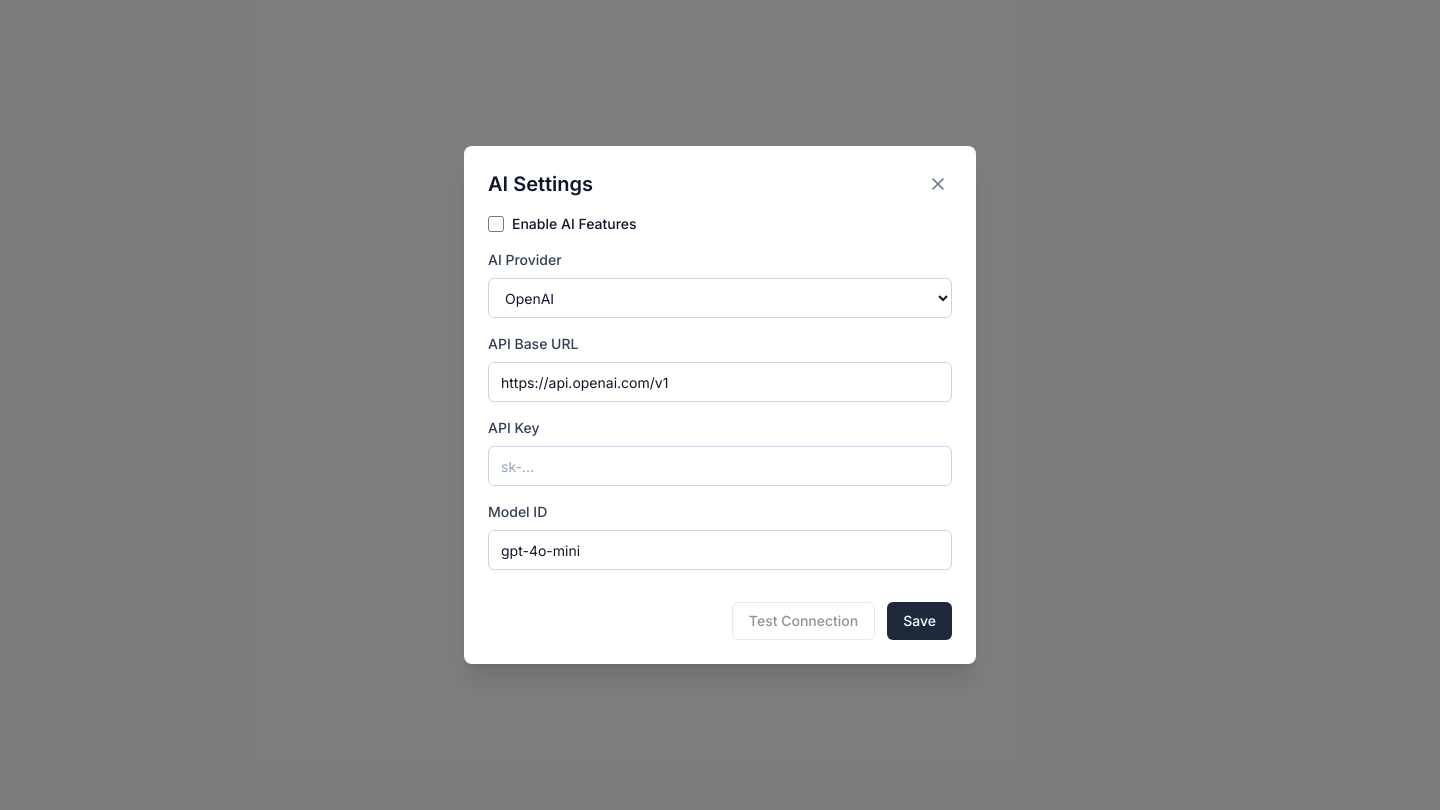
Scenario: AISettingsModal › tests connection successfully
The width and height of the screenshot is (1440, 810).
In the password field labelled "API Key": coordinates (720, 466) [488,446,952,486], type "test-key"
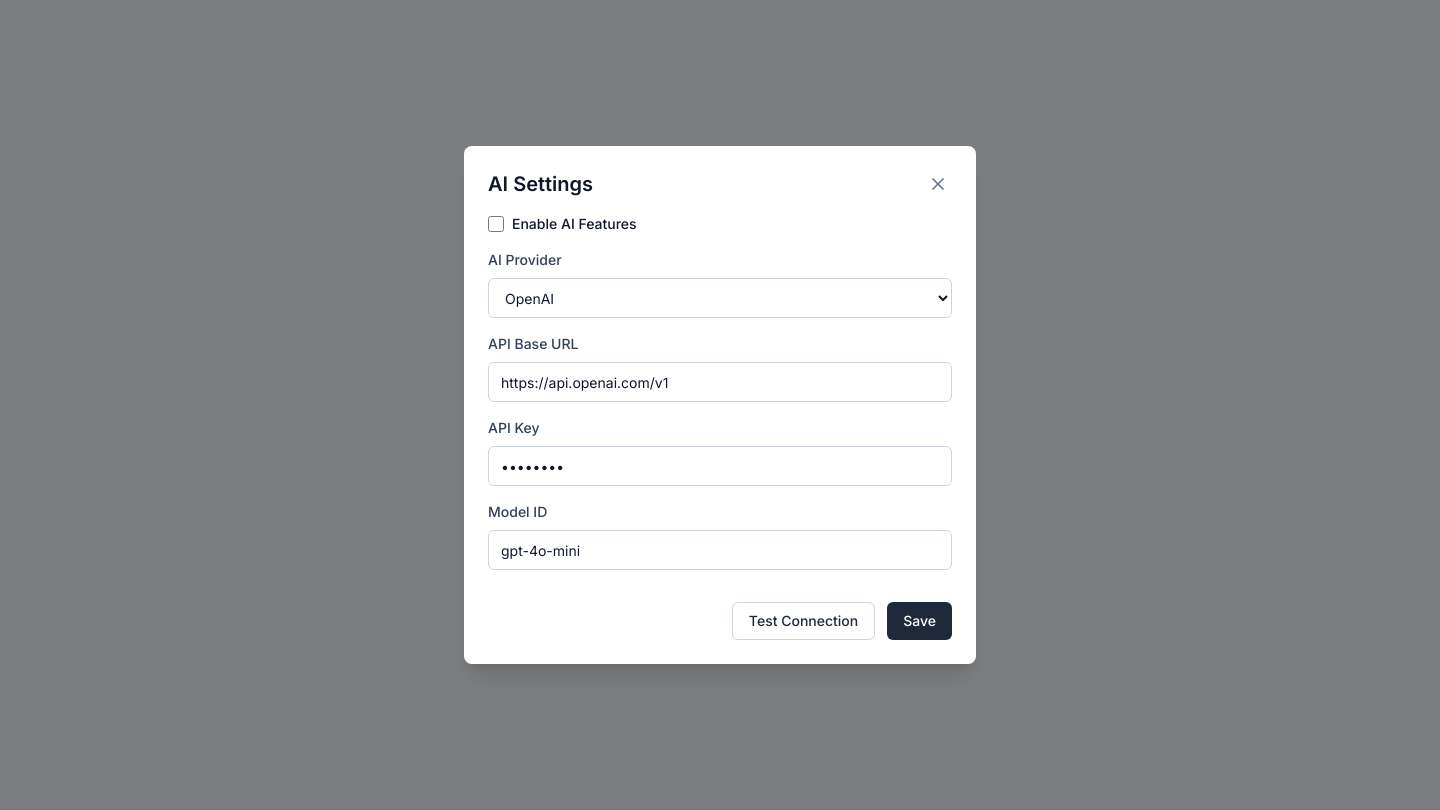
Click the button "Test Connection": coordinates (804, 621) [732,602,875,640]
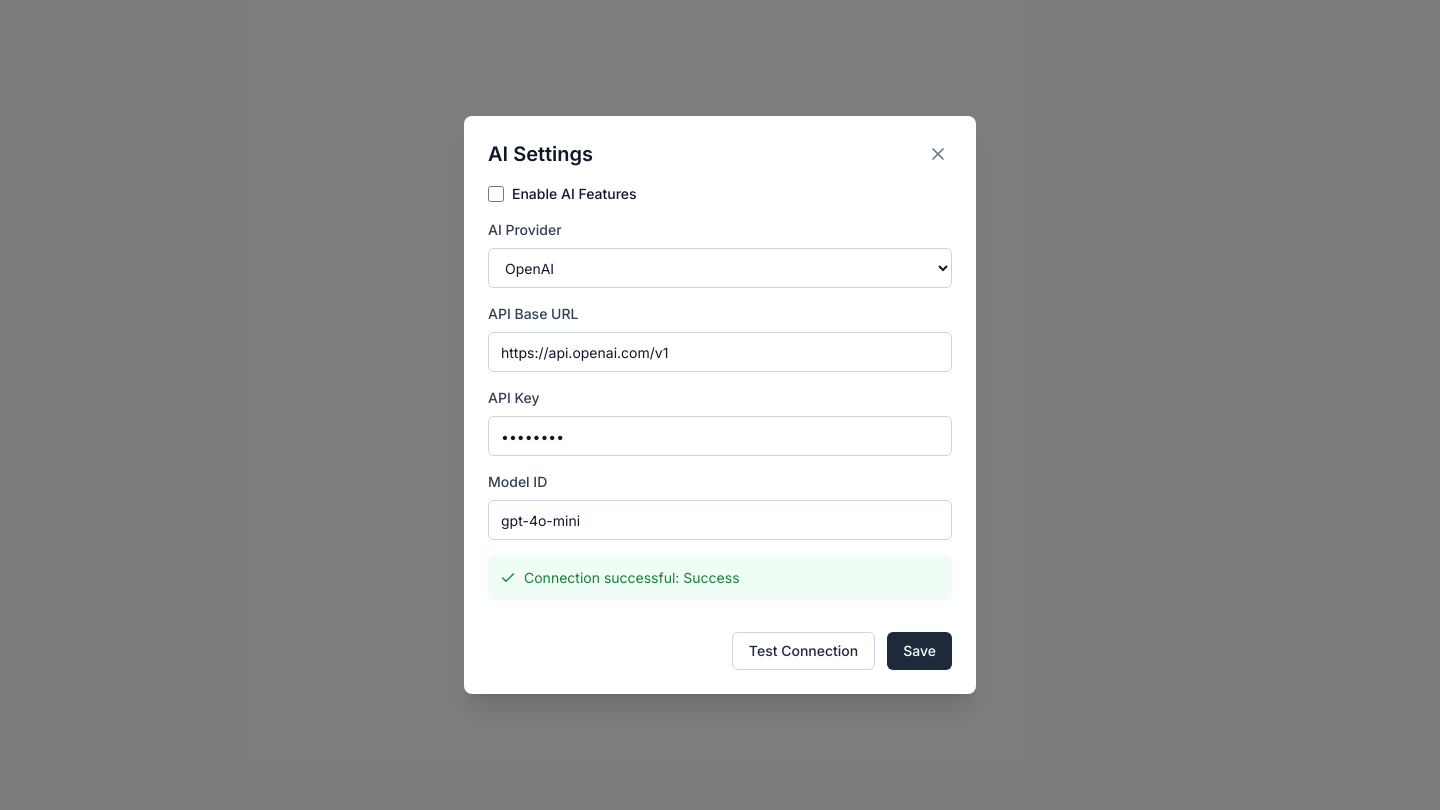
Expected: the text "Connection successful: Success" is shown, [524,568,740,588]
